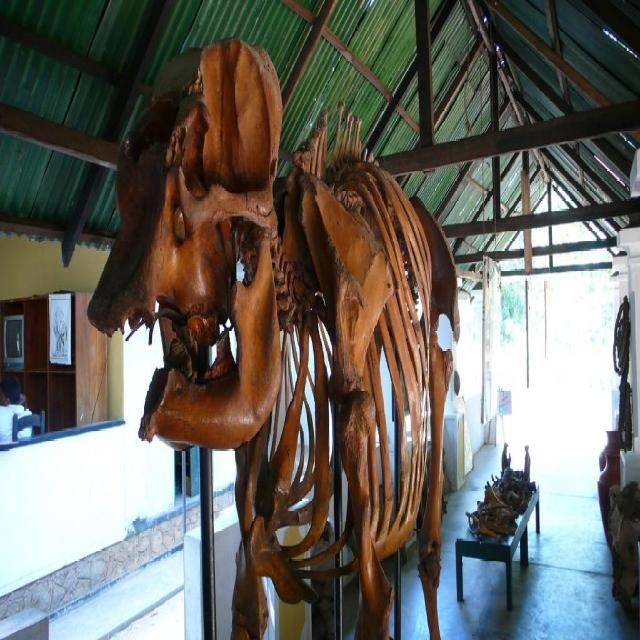Table: (452, 485, 539, 615)
